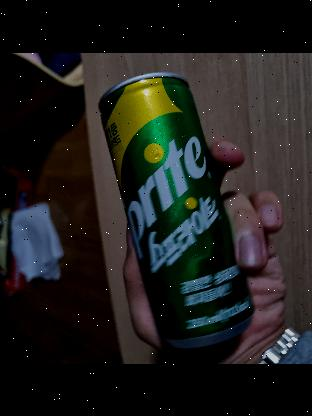Can: (86, 69, 258, 352)
